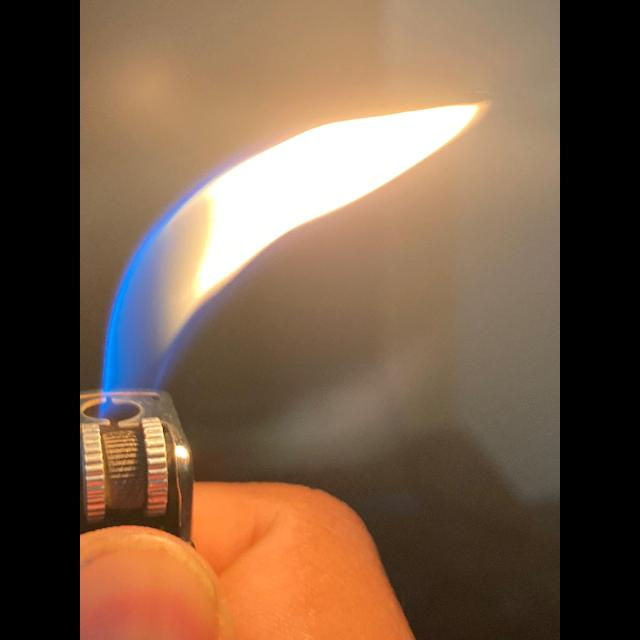fire: (102, 102, 482, 392)
